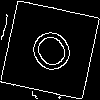O: (25, 25, 84, 85)
